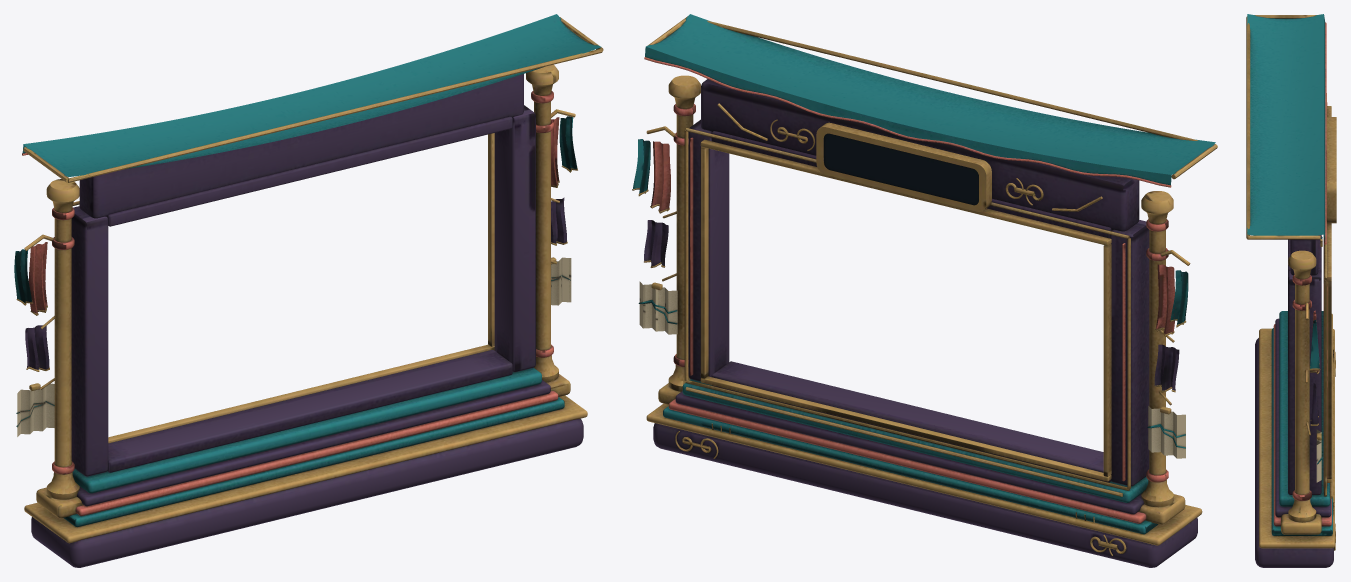
The picture shows the model from 3 angles, left to right: view 1: azimuth 30°, elevation 25°; view 2: azimuth 150°, elevation 25°; view 3: azimuth 270°, elevation 25°; orthographic projection. The views are drawn at different scales.
Parts seen in each view (by area): view 1: Indigo_violet_woven_mats, Lagoon_teal_woven_silk, Warm_guild_brass, Madder_coral_woven_silk, Warm_folded_route_paper; view 2: Indigo_violet_woven_mats, Warm_guild_brass, Lagoon_teal_woven_silk, Madder_coral_woven_silk, Even_midnight_display_enamel, Warm_folded_route_paper; view 3: Lagoon_teal_woven_silk, Warm_guild_brass, Indigo_violet_woven_mats, Madder_coral_woven_silk, Warm_folded_route_paper.
Part boxes in pixels (x1,y1,x2,y2): Indigo_violet_woven_mats: (25,74,583,567); Lagoon_teal_woven_silk: (14,14,601,527); Warm_guild_brass: (16,17,603,543); Madder_coral_woven_silk: (22,91,559,515); Warm_folded_route_paper: (17,257,571,436); Indigo_violet_woven_mats: (644,79,1197,567); Warm_guild_brass: (632,16,1217,555); Lagoon_teal_woven_silk: (633,14,1215,534); Madder_coral_woven_silk: (644,57,1175,523); Even_midnight_display_enamel: (824,133,978,205); Warm_folded_route_paper: (639,281,1185,458); Lagoon_teal_woven_silk: (1247,14,1332,535); Warm_guild_brass: (1246,15,1336,550); Indigo_violet_woven_mats: (1255,235,1333,567); Madder_coral_woven_silk: (1273,22,1331,526); Warm_folded_route_paper: (1316,429,1321,482).
Bounding box in the file's own units: 11.44 × 7.8 × 1.87.
Materials: 6 (6 with a texture image).
